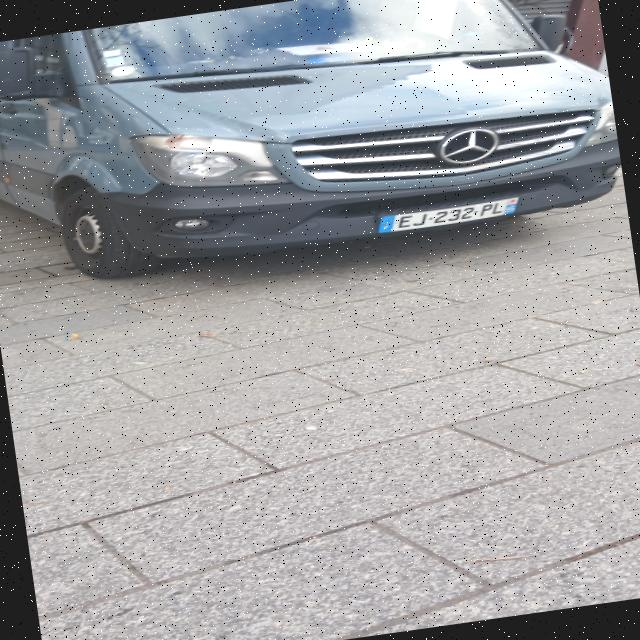EU: (380, 198, 520, 233)
France: (378, 216, 394, 234)
